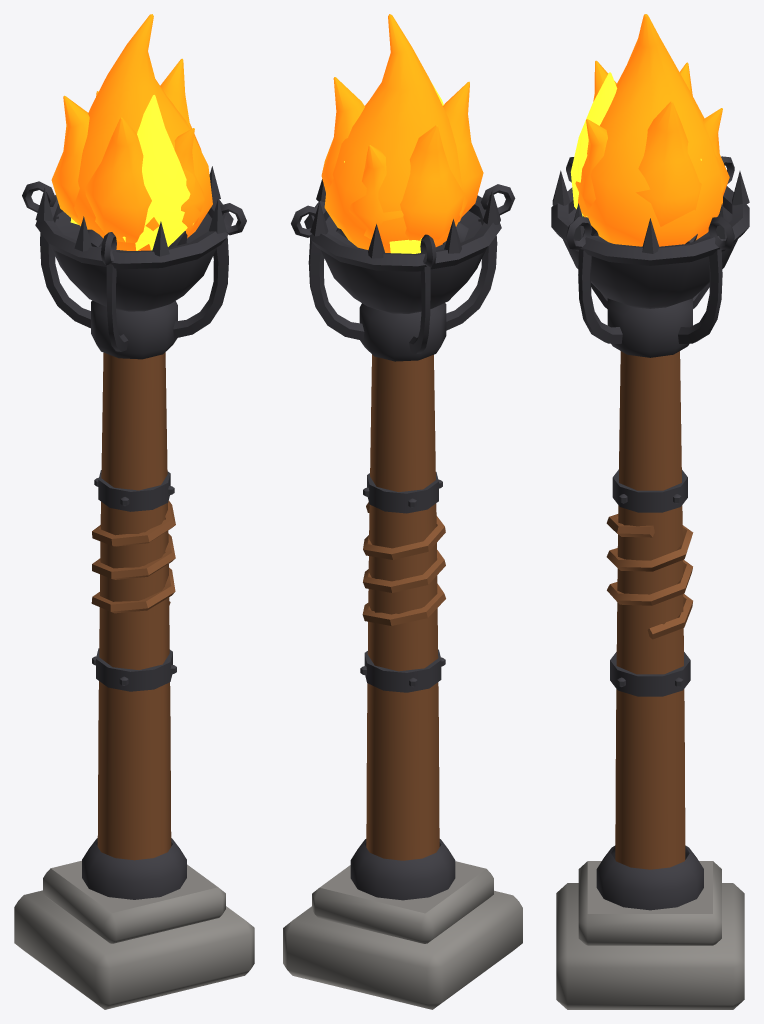
Rendered from torch.glb.
The picture shows the model from 3 angles, left to right: view 1: azimuth 30°, elevation 25°; view 2: azimuth 150°, elevation 25°; view 3: azimuth 270°, elevation 25°; orthographic projection. The views are drawn at different scales.
Visible parts, largest first — view 1: body, flame; view 2: body, flame; view 3: body, flame.
Part boxes in pixels (box(x1,y1,x2,y2)): body: box(14, 166, 254, 1009); flame: box(51, 14, 212, 250); body: box(283, 179, 522, 1009); flame: box(321, 14, 483, 252); body: box(551, 156, 749, 1009); flame: box(570, 14, 729, 246).
Size of the model in its own units: 0.454 by 2.38 by 0.4432.
